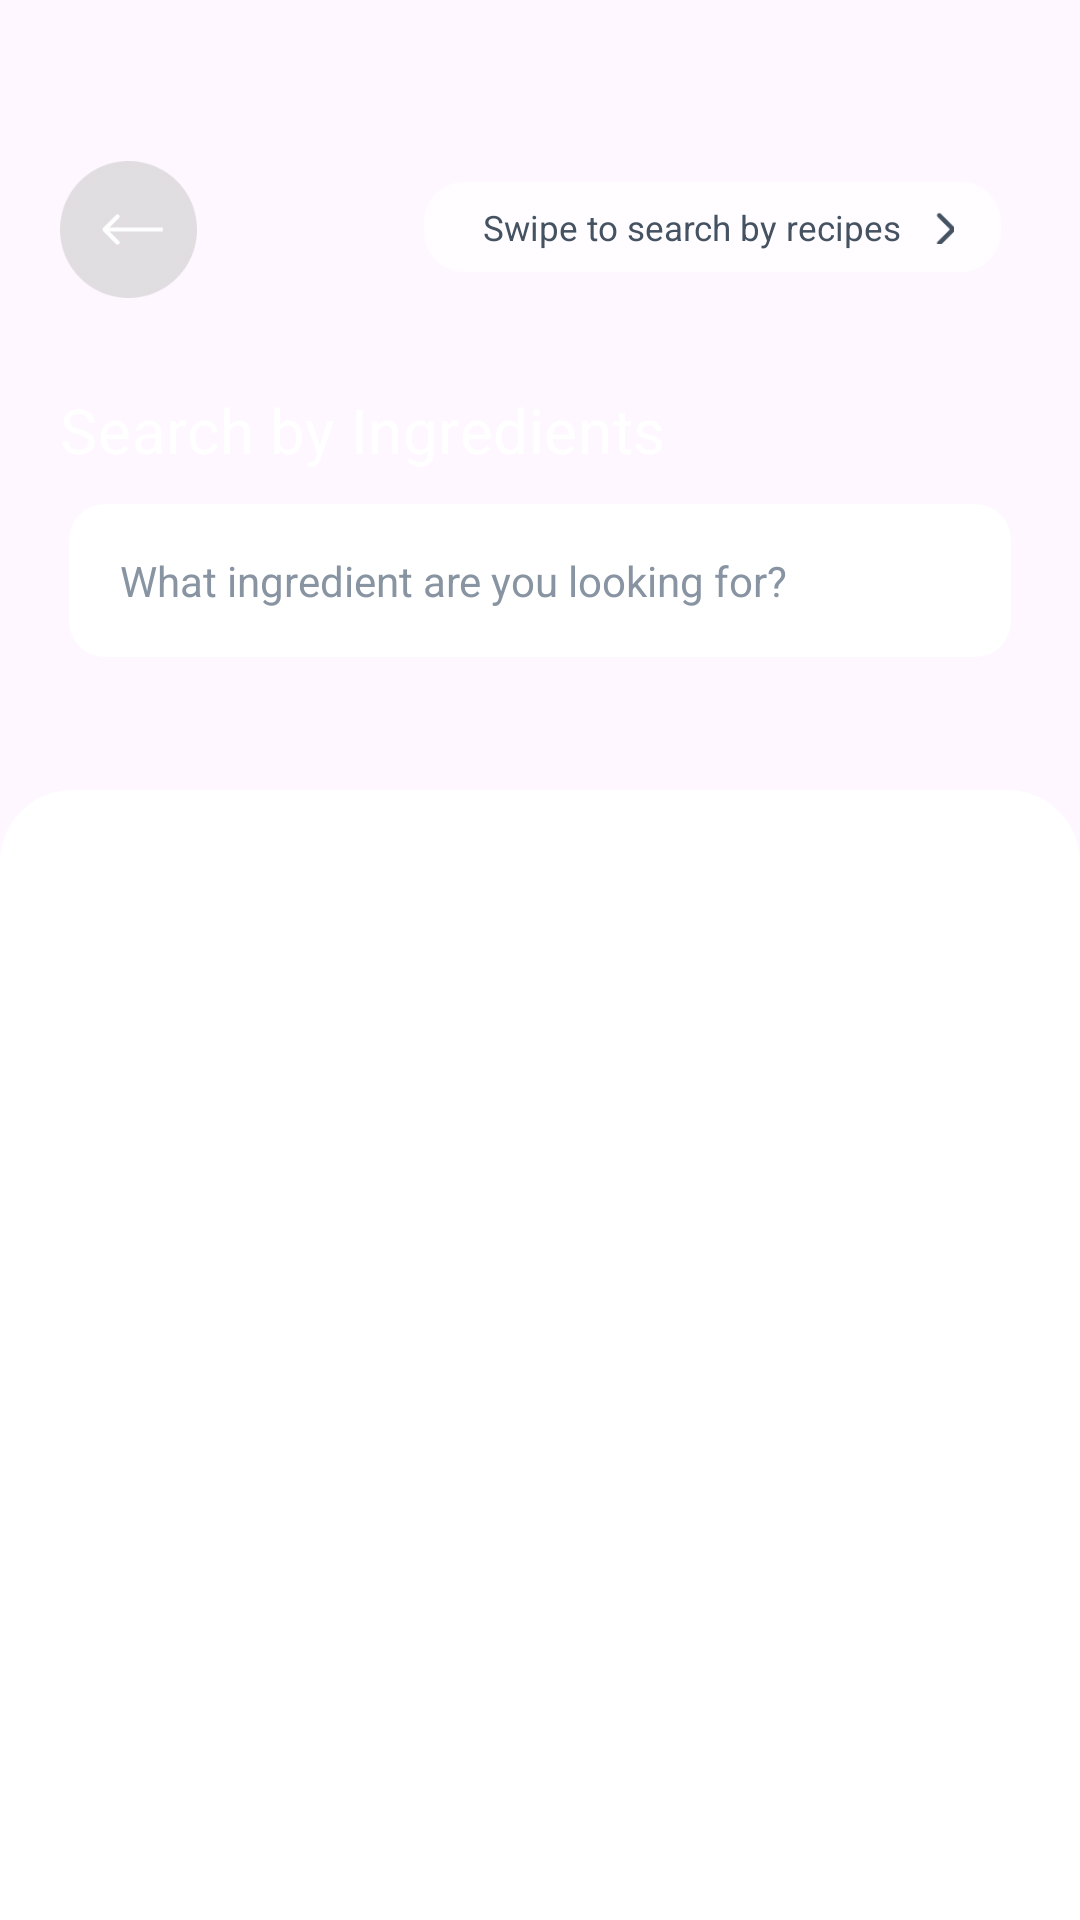

Screen size 1080w x 1920h. Icon name, then its center in pixels as [x,y]:
arrow: [945,228]
back: [128,229]
